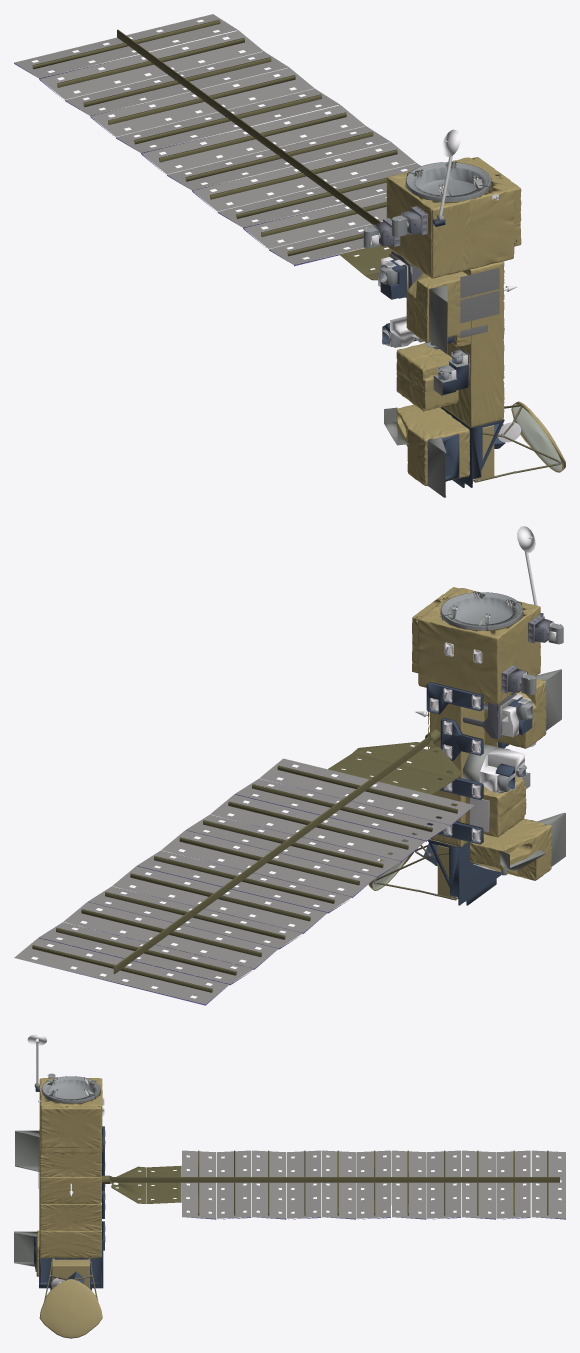
Rendered from space-aqua.glb.
3 views of the same model, one above another, from view 1: azimuth 30°, elevation 25°; view 2: azimuth 150°, elevation 25°; view 3: azimuth 270°, elevation 25° (orthographic). The views are drawn at different scales.
Visible parts, largest first — view 1: Aqua_Reduced_v0014 [Aqua_Layered_02 [(unnamed)]]; view 2: Aqua_Reduced_v0014 [Aqua_Layered_02 [(unnamed)]]; view 3: Aqua_Reduced_v0014 [Aqua_Layered_02 [(unnamed)]].
Part boxes in pixels (bbox=[...]): Aqua_Reduced_v0014 [Aqua_Layered_02 [(unnamed)]]: bbox=[14, 14, 565, 497]; Aqua_Reduced_v0014 [Aqua_Layered_02 [(unnamed)]]: bbox=[14, 526, 565, 1005]; Aqua_Reduced_v0014 [Aqua_Layered_02 [(unnamed)]]: bbox=[14, 1034, 565, 1338].
Bounding box in the file's own units: 124 × 230 × 434.
2 materials, 2 textured.
